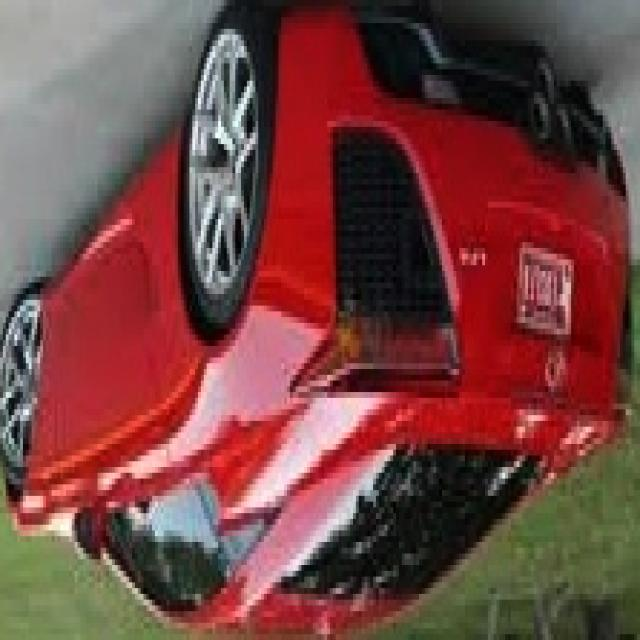red: (0, 29, 629, 628)
